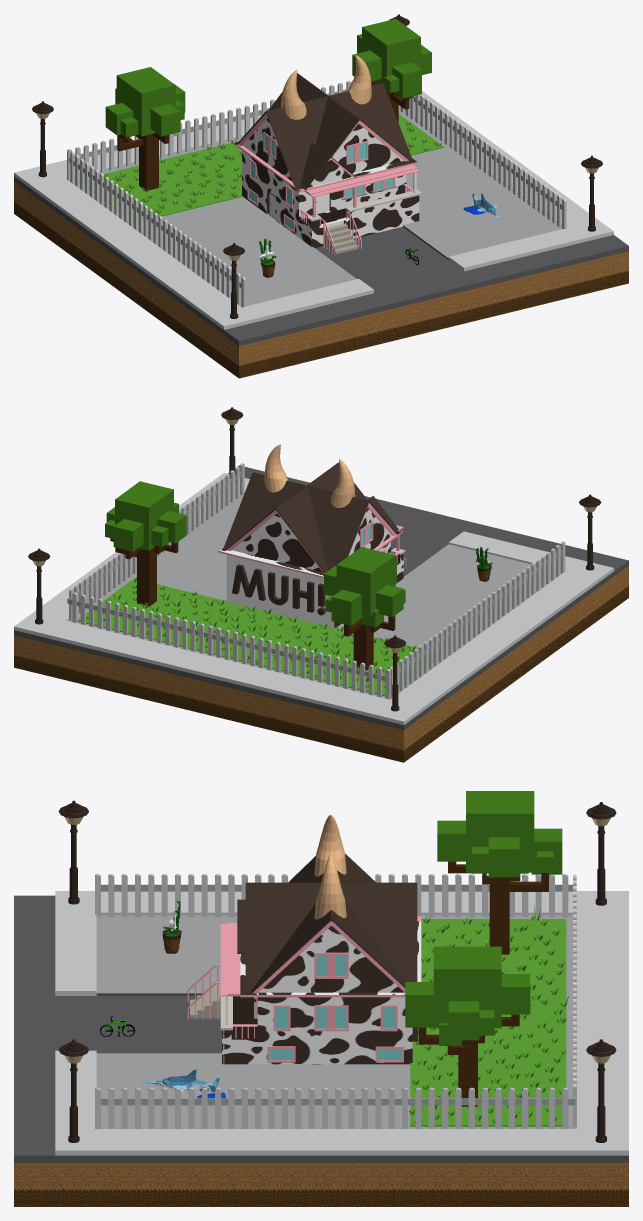
The picture shows the model from 3 angles, top to bottom: view 1: azimuth 30°, elevation 25°; view 2: azimuth 150°, elevation 25°; view 3: azimuth 270°, elevation 25°; orthographic projection. The views are drawn at different scales.
Parts seen in each view (by area): view 1: Cube.004, Cube.1242; view 2: Cube.004, Cube.1242; view 3: Cube.004, Cube.1242, ANIMAL_PEZ_ESPADA, OBJRANDOM_MONJA BLANCA.
Boxes of the visible parts, x1,y1,x2,y2 form: Cube.004: [14, 14, 628, 378]; Cube.1242: [233, 55, 422, 255]; Cube.004: [14, 407, 628, 762]; Cube.1242: [218, 444, 406, 627]; Cube.004: [14, 791, 628, 1206]; Cube.1242: [187, 814, 421, 1064]; ANIMAL_PEZ_ESPADA: [141, 1069, 226, 1098]; OBJRANDOM_MONJA BLANCA: [162, 901, 181, 953].
Bounding box in the file's own units: 4000 × 1810 × 4000.
Materials: 38 (4 with a texture image).
